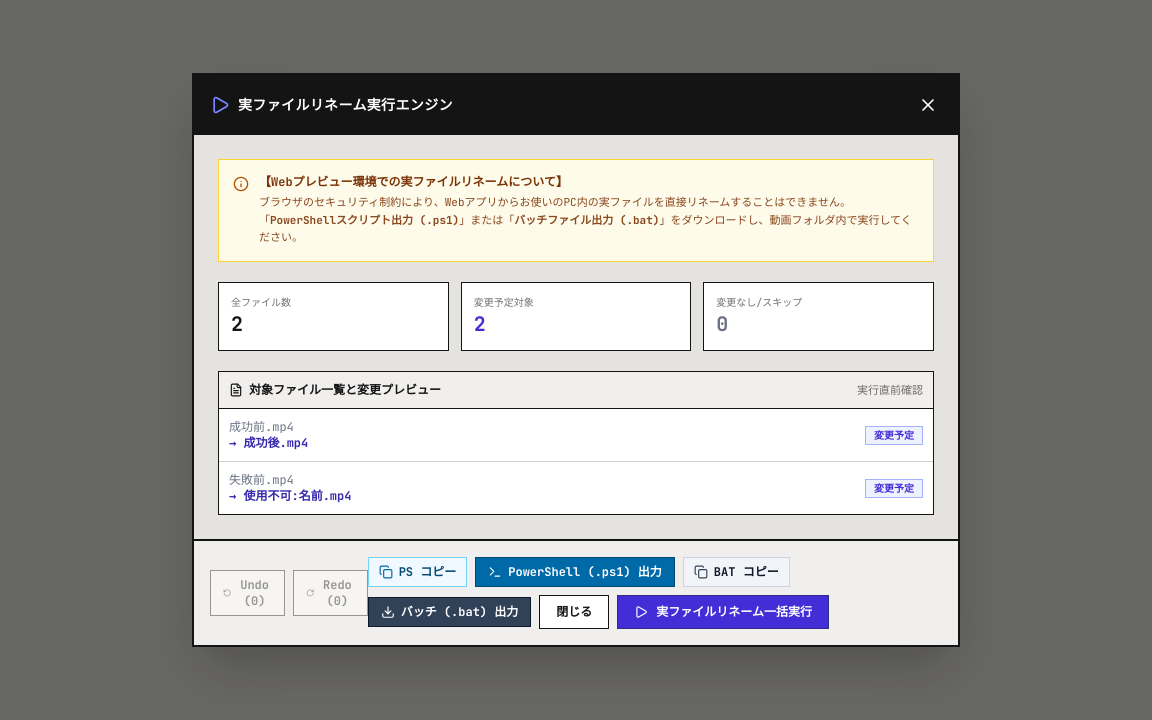
Test: RenameExecutionModal Component Suite › 部分失敗では成功したファイルだけを更新し、成功件数と失敗件数を表示する
The image size is (1152, 720).
Click the button "実ファイルリネーム一括実行": (723, 612) left=617, top=595, right=829, bottom=629
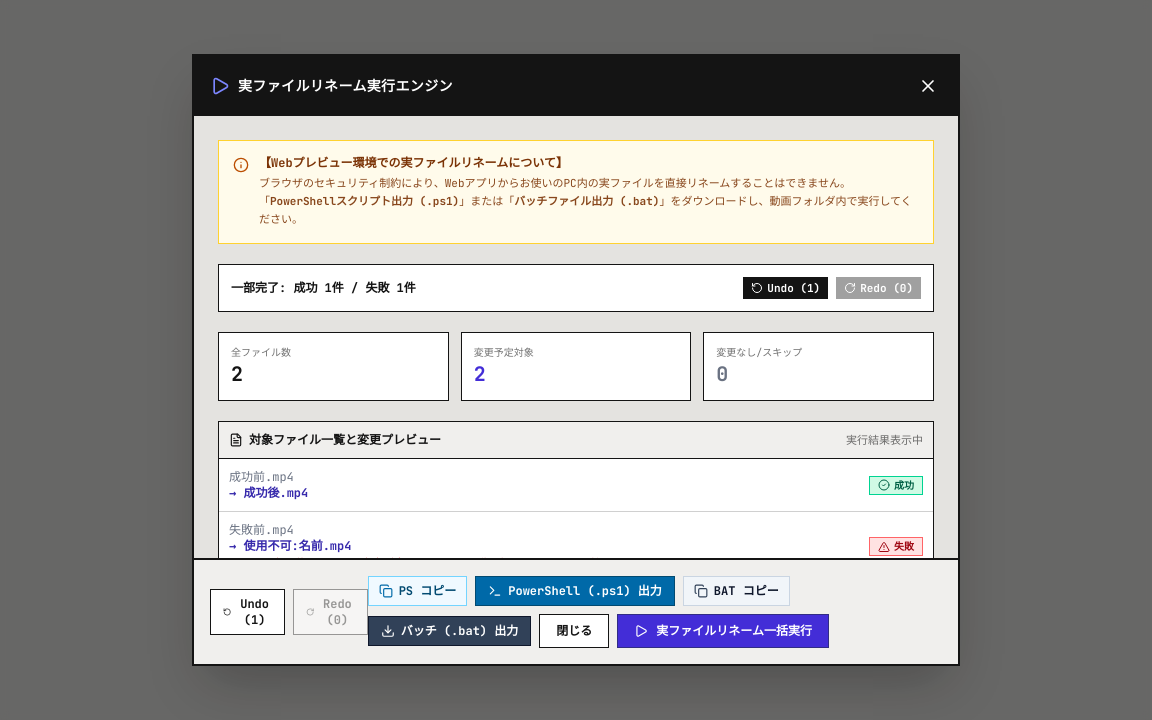
Check: the text "一部完了: 成功 1件 / 失敗 1件" is shown, box left=231, top=280, right=416, bottom=296
Check: the text "成功" is shown, box left=869, top=476, right=923, bottom=495
Check: the text "失敗" is shown, box left=869, top=537, right=923, bottom=556
